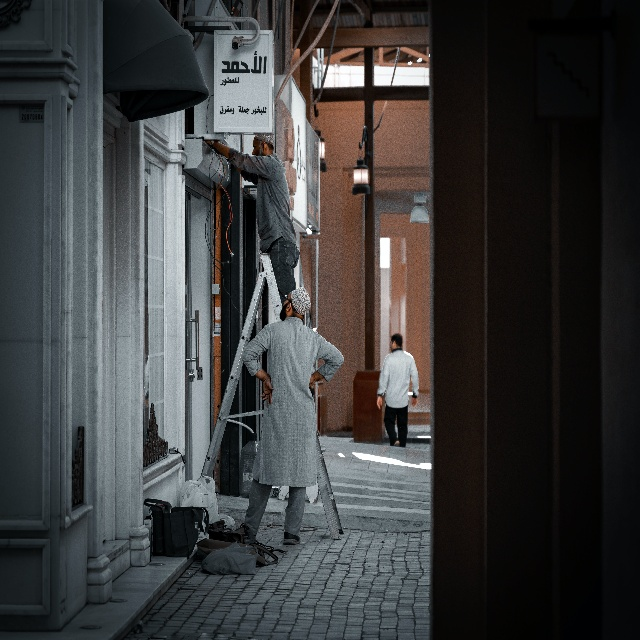Gafas: (284, 293, 293, 310), (284, 293, 293, 309)
Sin_guantes: (260, 376, 274, 406), (309, 373, 316, 391), (376, 395, 382, 409), (411, 396, 418, 408)
